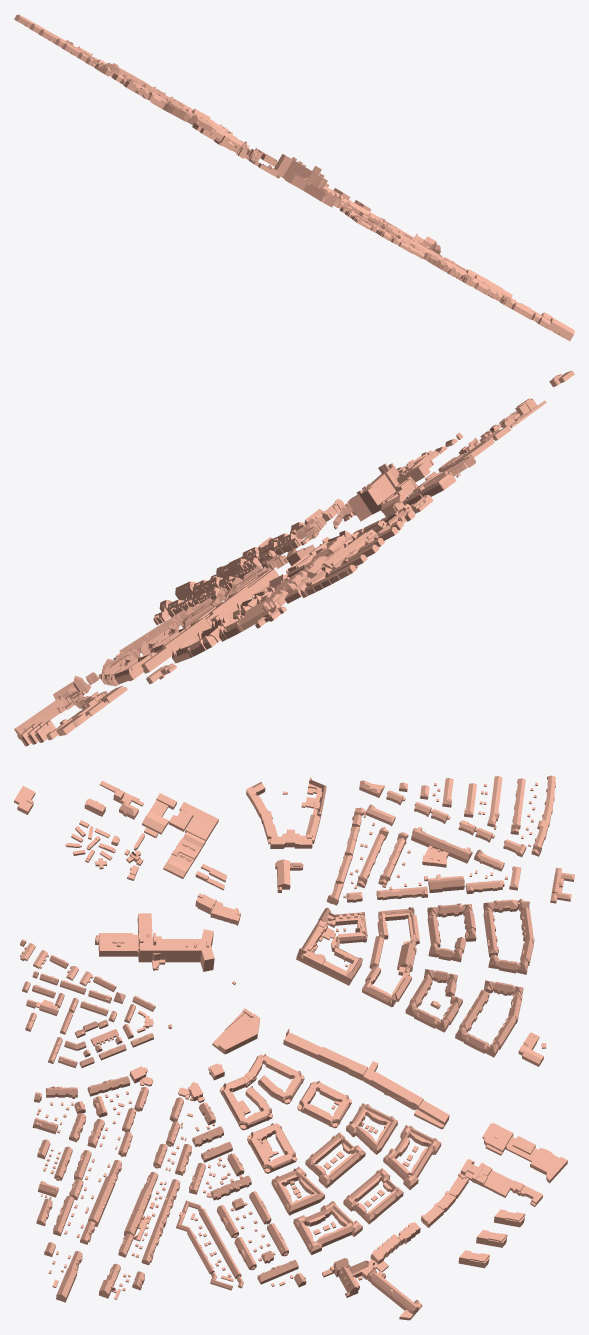
3 views of the same model, one above another, from view 1: azimuth 30°, elevation 25°; view 2: azimuth 150°, elevation 25°; view 3: azimuth 270°, elevation 25° (orthographic). The views are drawn at different scales.
Bounding box in the file's own units: 1.77e+07 × 1.34e+07 × 1.98e+07.
